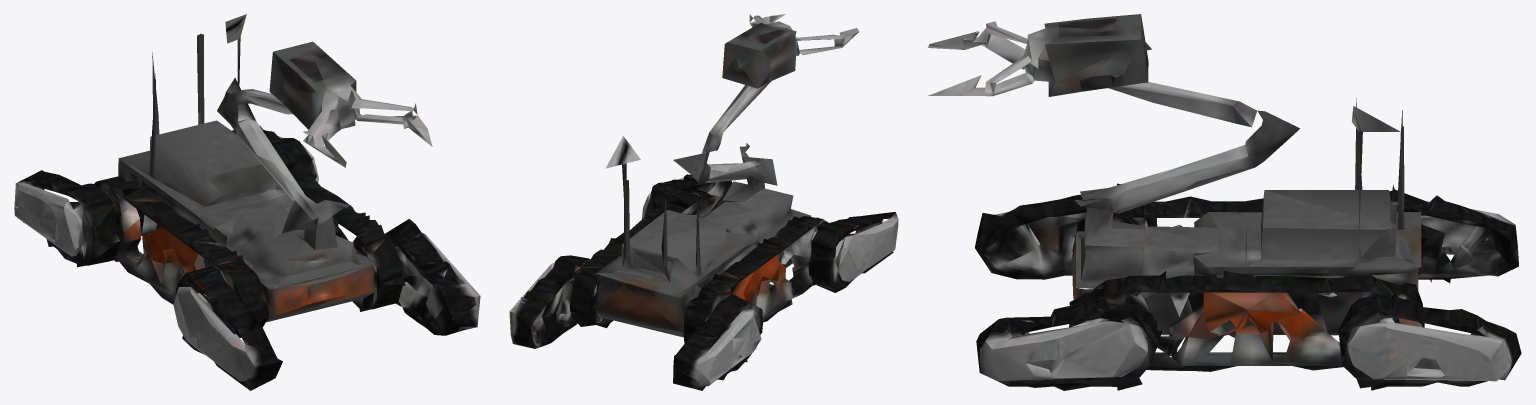
Rendered from robot_jinbom_lod2.glb.
The picture shows the model from 3 angles, left to right: view 1: azimuth 30°, elevation 25°; view 2: azimuth 150°, elevation 25°; view 3: azimuth 270°, elevation 25°; orthographic projection. The views are drawn at different scales.
Visible parts, largest first — view 1: tripo_node_f5128917; view 2: tripo_node_f5128917; view 3: tripo_node_f5128917.
Boxes of the visible parts, left/top/right/bottom form: tripo_node_f5128917: left=14, top=14, right=480, bottom=390; tripo_node_f5128917: left=509, top=14, right=898, bottom=390; tripo_node_f5128917: left=927, top=14, right=1521, bottom=390.
Size of the model in its own units: 51.95 by 55.55 by 98.06.
1 material, 1 textured.
